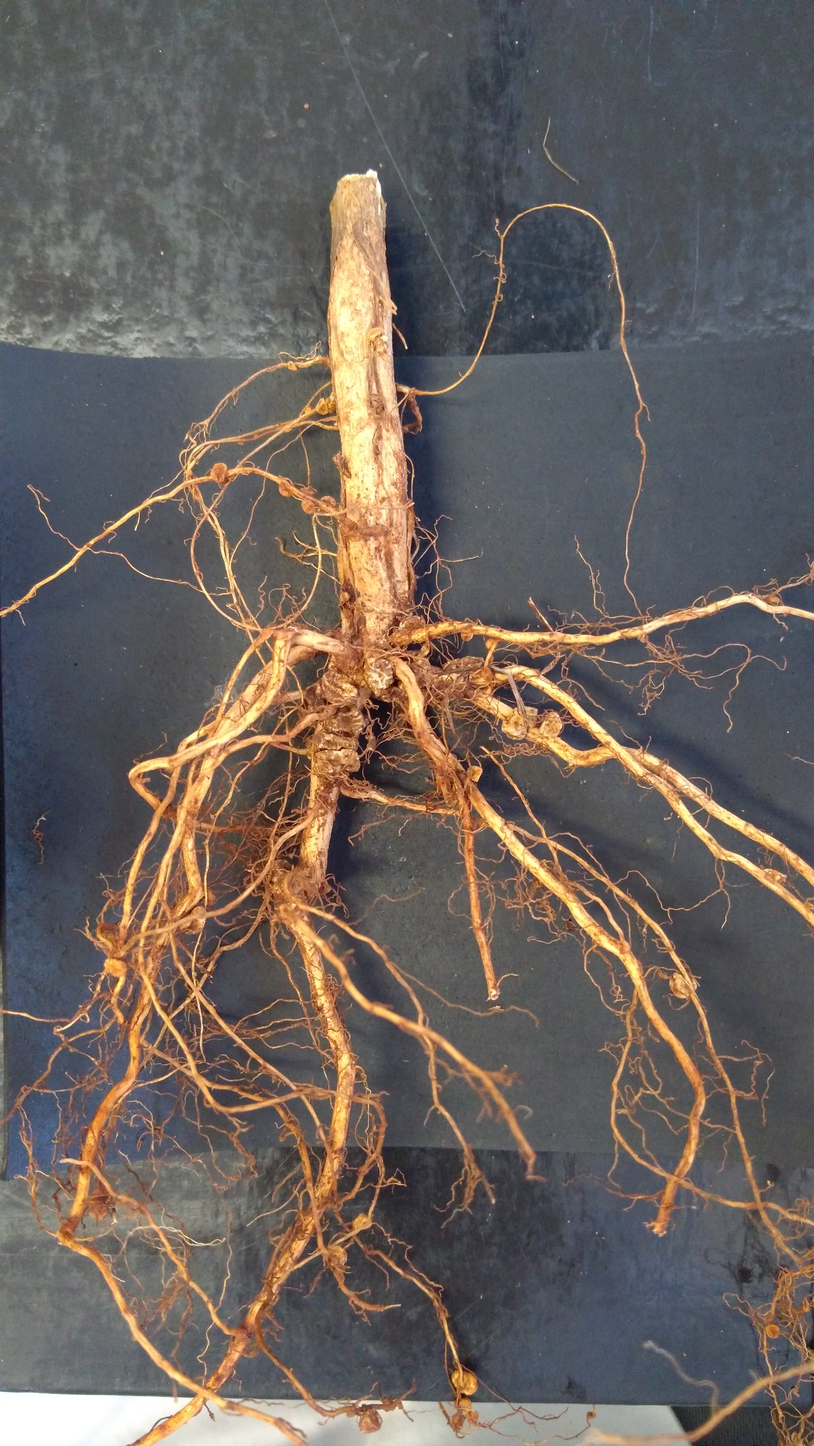nodule: (311, 745, 364, 780), (315, 670, 361, 706), (316, 706, 366, 738), (360, 652, 398, 691), (310, 728, 361, 754), (86, 1184, 114, 1226), (665, 968, 696, 1004), (498, 706, 528, 742), (179, 905, 208, 937), (449, 1367, 481, 1396), (357, 1406, 385, 1437), (538, 709, 562, 740), (207, 460, 233, 484), (103, 956, 130, 979), (328, 1244, 350, 1271), (398, 612, 430, 630), (350, 1212, 374, 1232), (459, 652, 486, 669), (522, 704, 540, 728), (297, 496, 318, 516), (274, 479, 294, 498), (463, 765, 484, 783), (462, 1409, 483, 1426), (314, 396, 330, 417), (317, 493, 338, 509), (764, 1323, 781, 1342), (480, 666, 496, 684), (459, 627, 475, 644), (799, 1297, 812, 1317), (297, 485, 316, 498), (483, 637, 499, 652), (763, 593, 781, 606), (336, 590, 353, 603), (285, 358, 300, 372), (458, 1397, 475, 1409), (179, 919, 194, 932), (327, 401, 337, 417), (585, 1409, 598, 1421), (304, 405, 313, 414)
